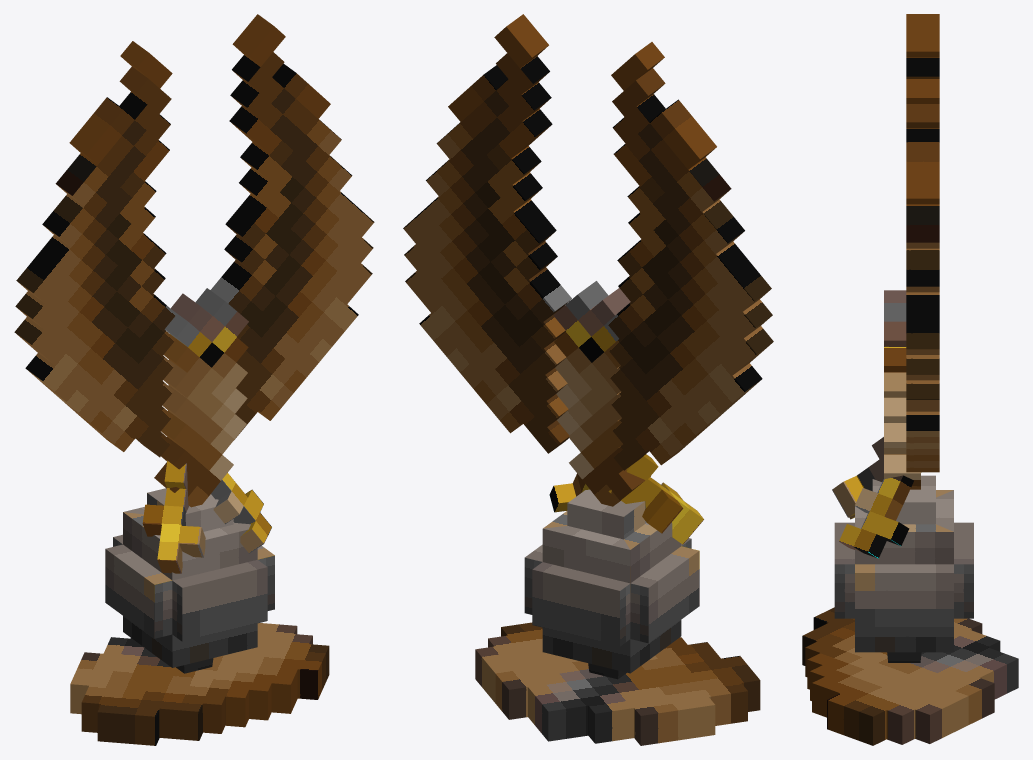
The model's file is trophy_311x00.gltf.
3 renders of one model, left to right at view 1: azimuth 30°, elevation 25°; view 2: azimuth 150°, elevation 25°; view 3: azimuth 270°, elevation 25°, orthographic. The views are drawn at different scales.
Parts seen in each view (by area): view 1: trophy_311x00; view 2: trophy_311x00; view 3: trophy_311x00.
Boxes of the visible parts, box(x1,y1,x2,y2) form: trophy_311x00: box(14, 14, 374, 745); trophy_311x00: box(403, 14, 773, 745); trophy_311x00: box(802, 14, 1018, 745).
Size of the model in its own units: 1.04 by 1.87 by 0.5635.
1 material, 1 textured.
